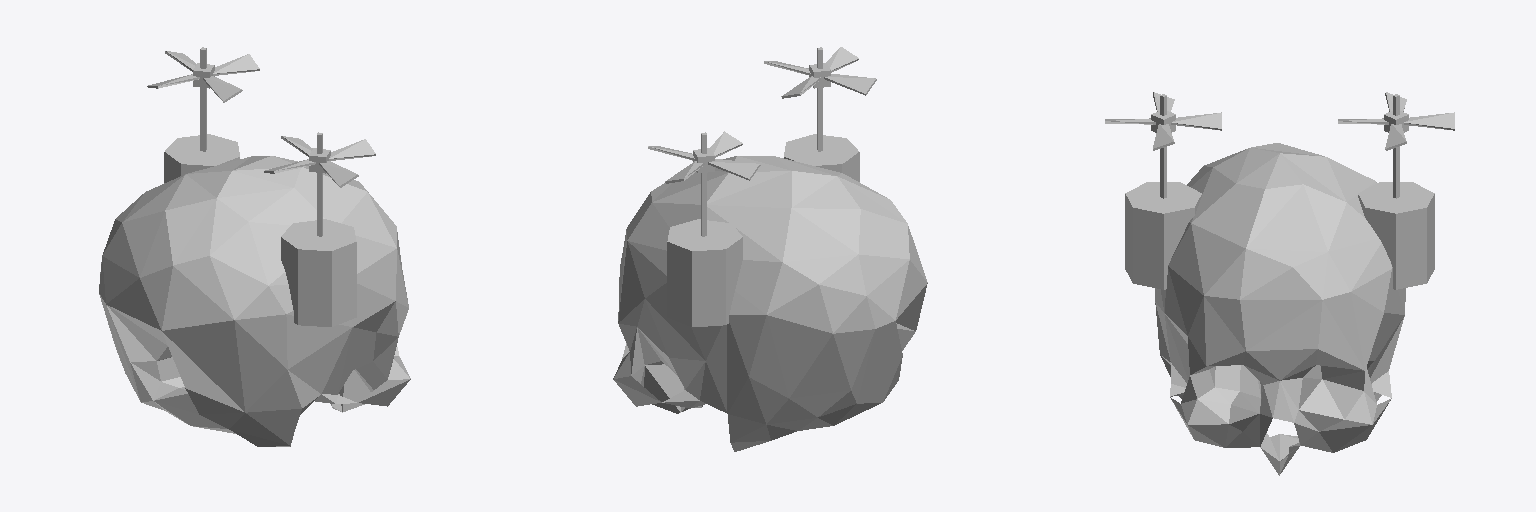
Rendered from flyingSkull.obj.
3 renders of one model, left to right at view 1: azimuth 30°, elevation 25°; view 2: azimuth 150°, elevation 25°; view 3: azimuth 270°, elevation 25°, orthographic.
Visible parts, largest first — view 1: Cylinder.1, Cube.6, Cube; view 2: Cylinder.1, Cube.6, Cube; view 3: Cylinder.1, Cube.6, Cube.
Boxes of the visible parts, <box> form: Cylinder.1: <box>99,134,410,446</box>; Cube.6: <box>147,47,259,151</box>; Cube: <box>264,132,375,236</box>; Cylinder.1: <box>613,134,927,451</box>; Cube.6: <box>648,131,760,236</box>; Cube: <box>764,47,876,151</box>; Cylinder.1: <box>1125,143,1434,475</box>; Cube.6: <box>1338,92,1454,198</box>; Cube: <box>1105,92,1221,198</box>.
Bounding box in the file's own units: 2772 × 3118 × 3025.